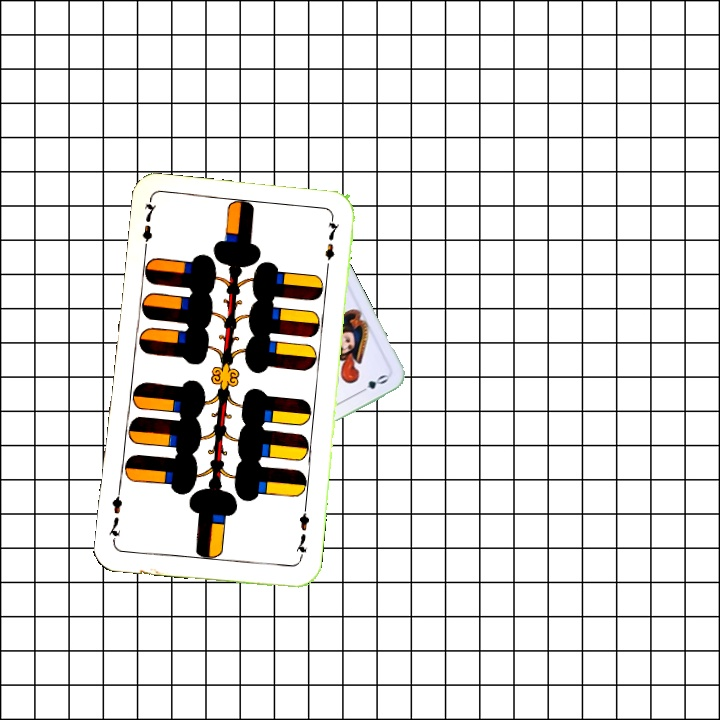E7: (291, 504, 312, 563), (138, 197, 159, 256)
